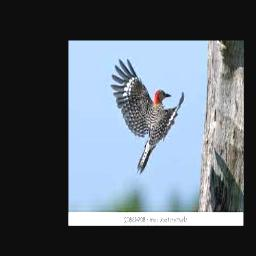Woodpecker: (110, 59, 184, 174)
